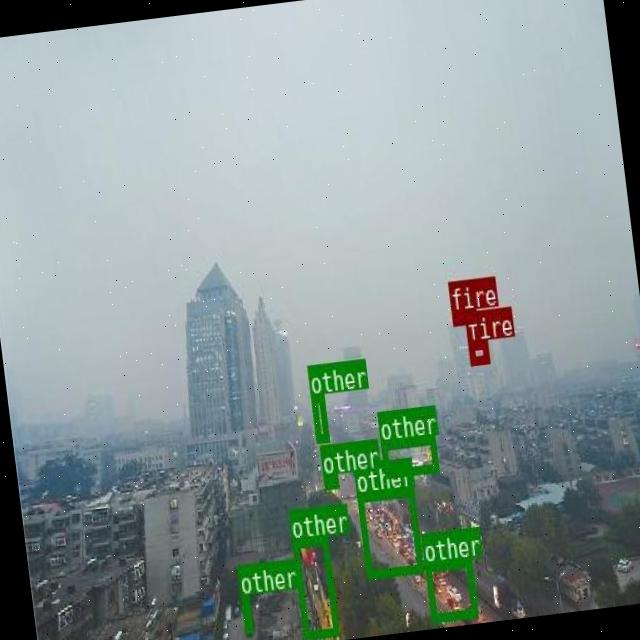fire: (466, 338, 488, 363), (450, 307, 476, 325)
